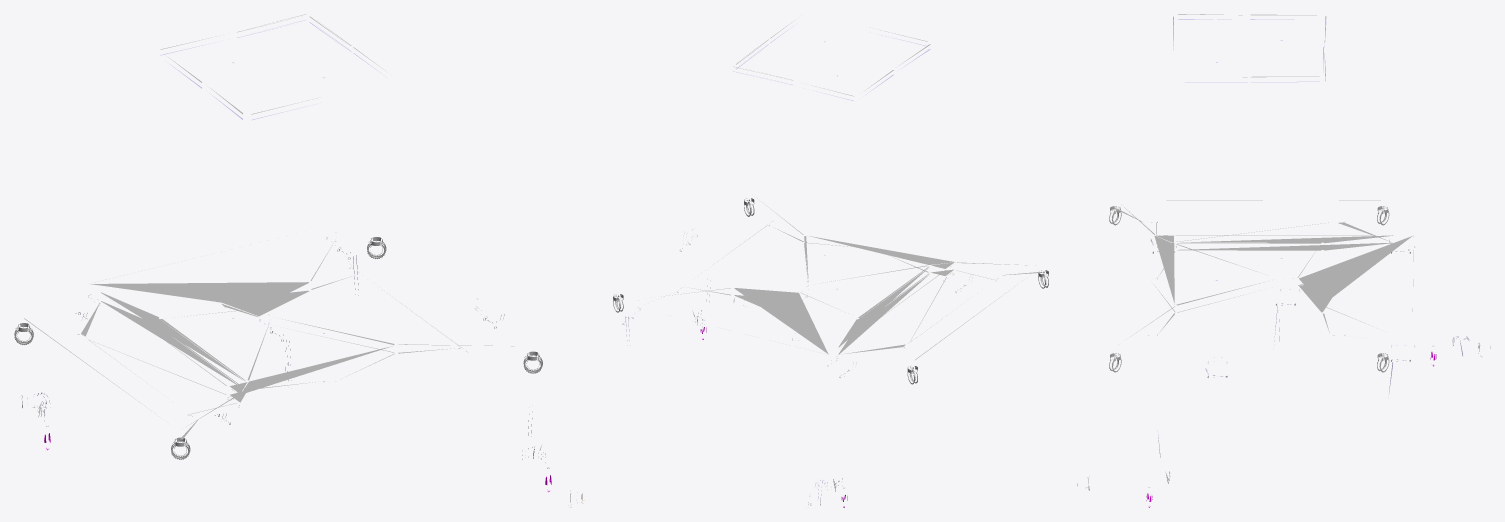
3 views of the same model, side by side, from view 1: azimuth 30°, elevation 25°; view 2: azimuth 150°, elevation 25°; view 3: azimuth 270°, elevation 25° (orthographic). The views are drawn at different scales.
Parts seen in each view (by area): view 1: F19721000063203000100_001_zb_hb_ablage_001_071106; view 2: F19721000063203000100_001_zb_hb_ablage_001_071106; view 3: F19721000063203000100_001_zb_hb_ablage_001_071106 (×2).
Part boxes in pixels (x1=…): F19721000063203000100_001_zb_hb_ablage_001_071106: x1=14, y1=14, x2=584, y2=502; F19721000063203000100_001_zb_hb_ablage_001_071106: x1=613, y1=21, x2=1048, y2=505; F19721000063203000100_001_zb_hb_ablage_001_071106 (×2): x1=1077, y1=14, x2=1490, y2=490.
Size of the model in its own units: 1472 by 1546 by 1538.
